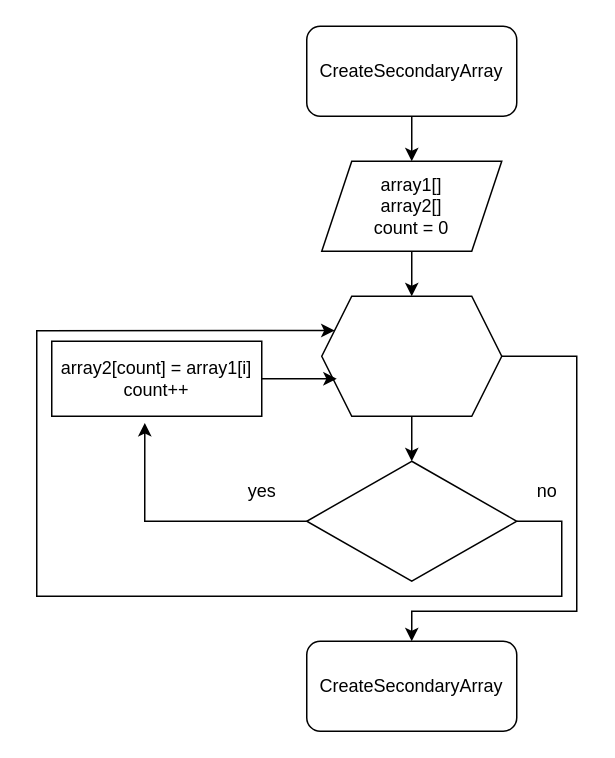
This 615x758 diagram has some shape labels left out. The shapes that lost their labels are listed below. From the top down, each one's box as (x1, y1, x2, y2) in pixels, then its label:
(320, 295, 502, 416): for(i =0 i<array1.Length i++)
(305, 460, 517, 581): if(array1[i].Length<=3)
